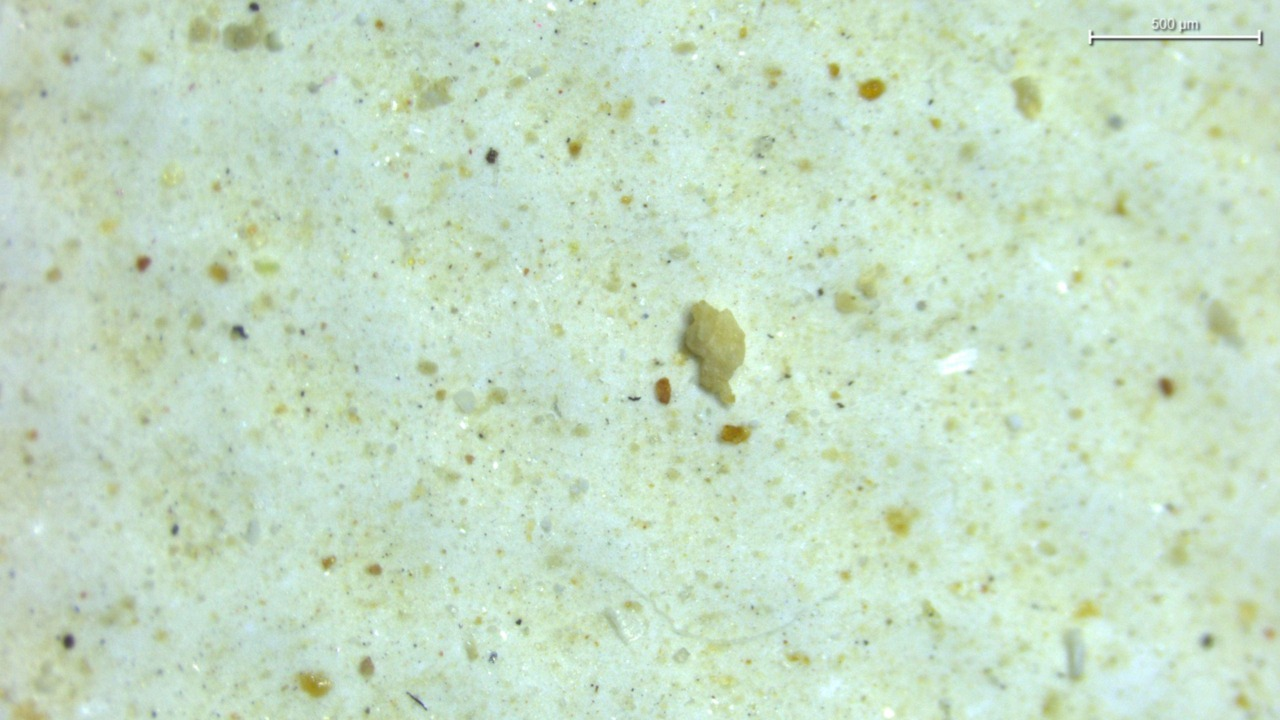microplastic_fragment: (684, 301, 745, 403)
